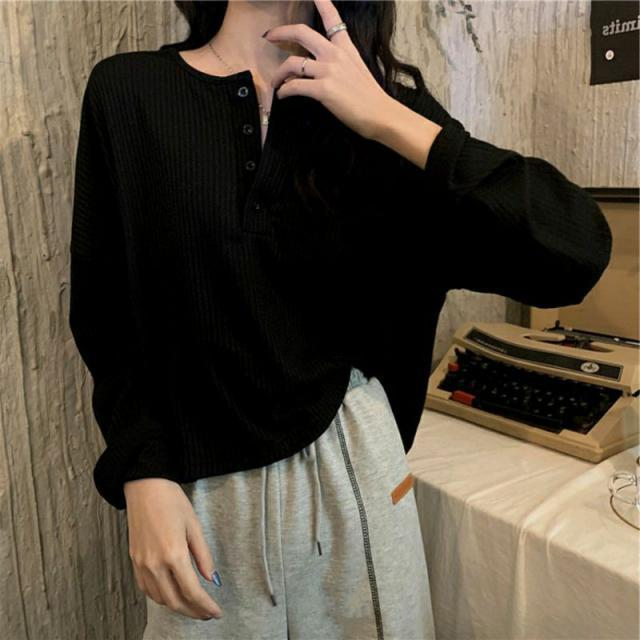Shirt: (62, 37, 616, 510)
